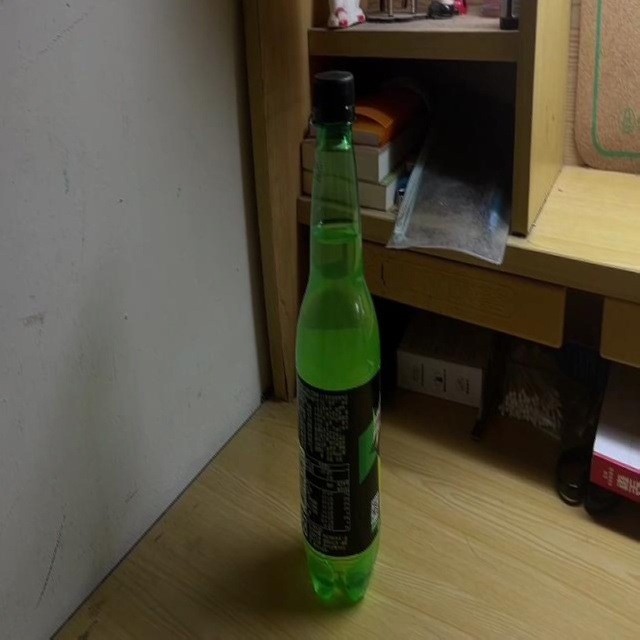Mountain-Dew: (296, 70, 382, 606)
